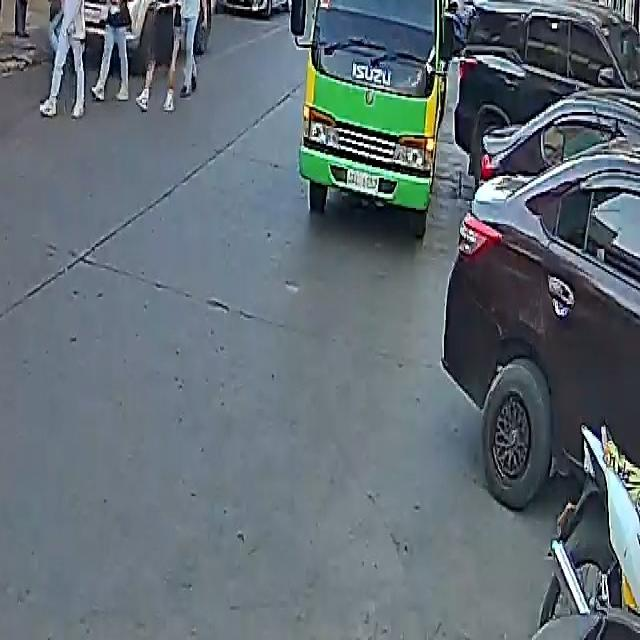car: (443, 55, 640, 535), (448, 0, 640, 187), (58, 0, 222, 64), (217, 0, 288, 18)
